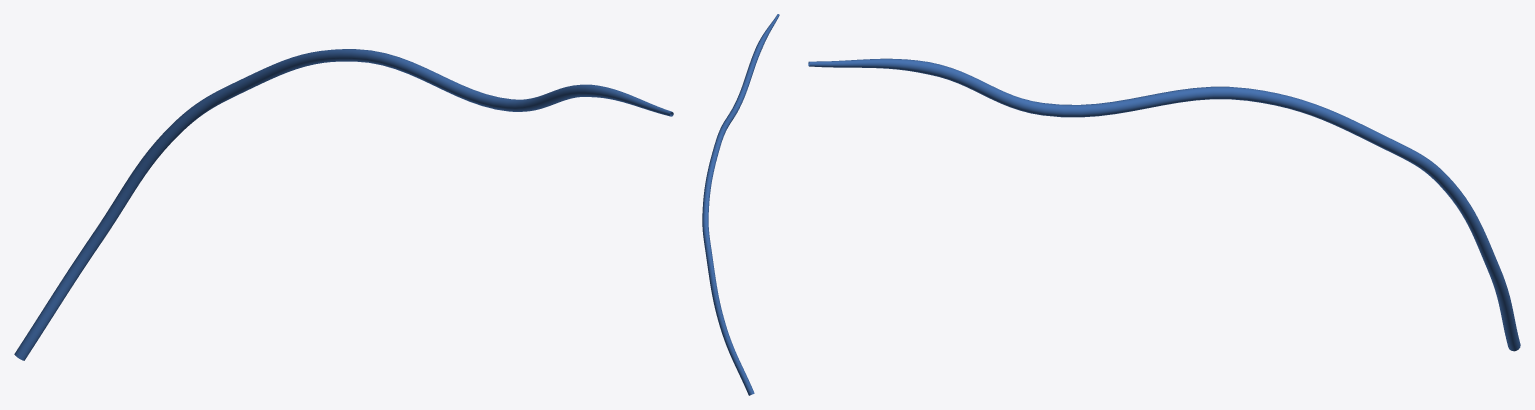
3 renders of one model, left to right at view 1: azimuth 30°, elevation 25°; view 2: azimuth 150°, elevation 25°; view 3: azimuth 270°, elevation 25°, orthographic. The views are drawn at different scales.
Parts seen in each view (by area): view 1: 左侧耳后静脉; view 2: 左侧耳后静脉; view 3: 左侧耳后静脉.
Part boxes in pixels (box(x1,y1,x2,y2)): 左侧耳后静脉: box(14, 49, 673, 360); 左侧耳后静脉: box(702, 14, 779, 395); 左侧耳后静脉: box(808, 58, 1520, 351).
Bounding box in the file's own units: 0.0412 × 0.0558 × 0.083.
